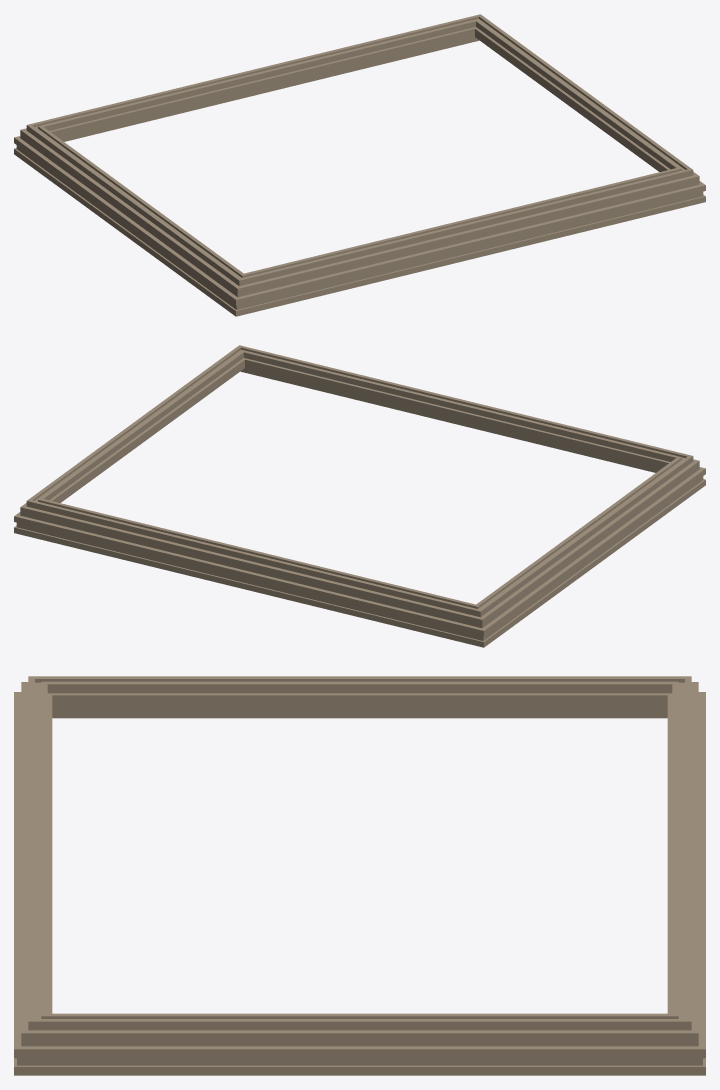
Rendered from game_board_outer.fbx.
3 renders of one model, top to bottom at view 1: azimuth 30°, elevation 25°; view 2: azimuth 150°, elevation 25°; view 3: azimuth 270°, elevation 25°, orthographic. The views are drawn at different scales.
Visible parts, largest first — view 1: game_board_outer; view 2: game_board_outer; view 3: game_board_outer.
Part boxes in pixels (left/top/right/bottom): game_board_outer: left=14, top=14, right=705, bottom=316; game_board_outer: left=14, top=345, right=705, bottom=647; game_board_outer: left=14, top=676, right=705, bottom=1075.
Size of the model in its own units: 4400 by 275 by 3600.
